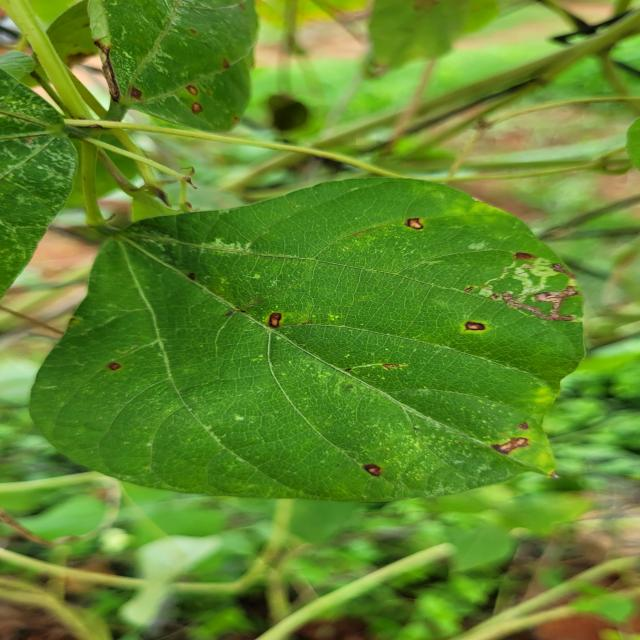Dolicos bean_cercospora leaf spot: (23, 175, 590, 502), (94, 0, 266, 135)
